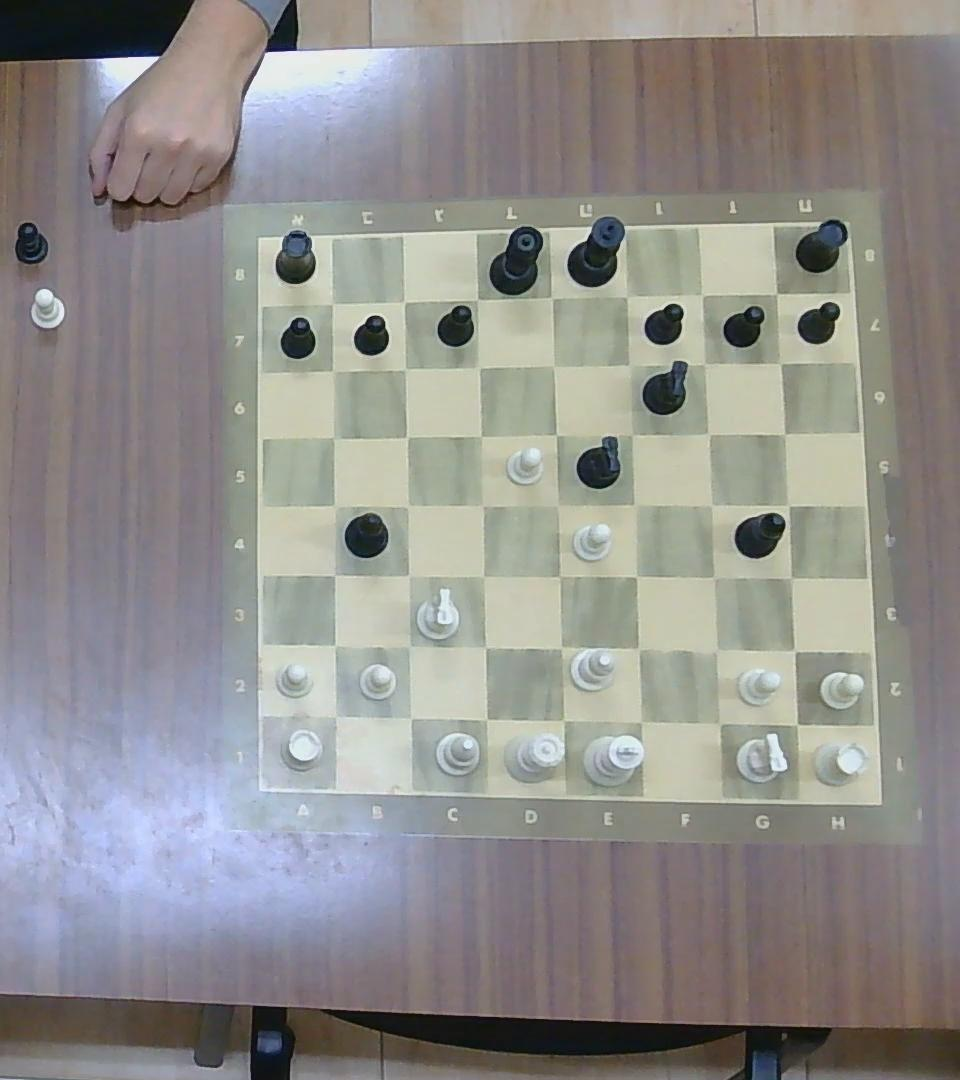xcorner: (701, 706, 735, 738), (624, 703, 656, 737), (780, 706, 812, 738), (544, 631, 575, 664), (621, 632, 653, 663), (547, 704, 578, 736), (470, 703, 501, 734), (394, 701, 424, 732), (700, 636, 731, 666), (698, 561, 728, 592), (776, 561, 806, 592), (778, 636, 809, 666), (320, 700, 350, 730), (621, 562, 651, 591), (470, 631, 499, 661), (393, 631, 423, 660), (545, 562, 574, 591), (616, 419, 645, 448), (469, 562, 497, 591), (320, 630, 349, 658), (543, 490, 572, 518), (393, 561, 422, 589), (468, 490, 495, 518), (320, 560, 348, 587), (393, 491, 421, 518), (698, 491, 725, 518), (773, 491, 801, 517), (543, 420, 569, 447), (771, 420, 798, 446), (622, 489, 648, 516), (317, 291, 345, 316), (538, 284, 566, 309), (393, 422, 419, 448), (319, 422, 345, 448), (322, 491, 348, 517), (467, 422, 492, 448), (319, 356, 344, 382), (540, 353, 566, 378), (613, 284, 639, 309), (616, 351, 641, 377), (465, 286, 490, 310), (696, 421, 720, 445), (466, 354, 490, 378), (768, 350, 792, 374), (391, 356, 415, 379), (391, 290, 415, 313), (691, 351, 715, 373), (764, 282, 788, 304), (692, 284, 712, 305)
